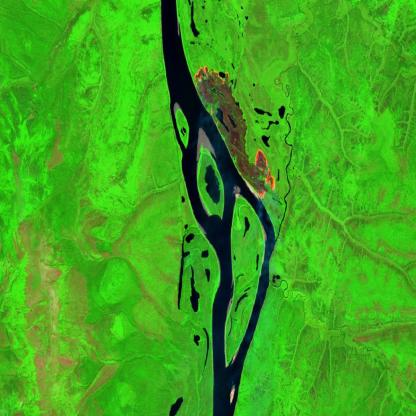fire: (192, 60, 278, 202)
